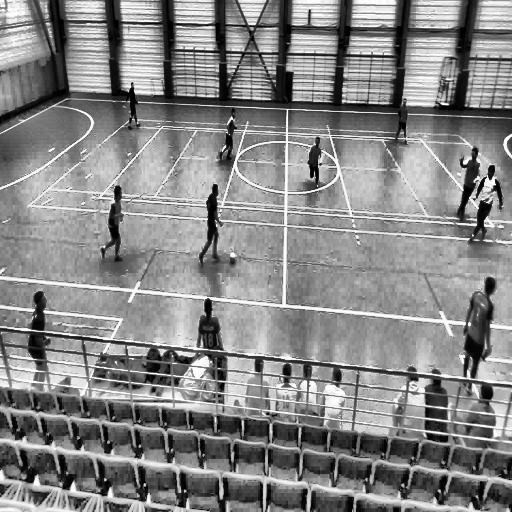ball: (228, 251, 237, 265)
player: (460, 277, 495, 391), (470, 164, 504, 242), (198, 182, 224, 269), (100, 184, 126, 264), (457, 142, 481, 227), (218, 107, 237, 164), (393, 93, 409, 146), (307, 134, 322, 190), (126, 81, 142, 131)
